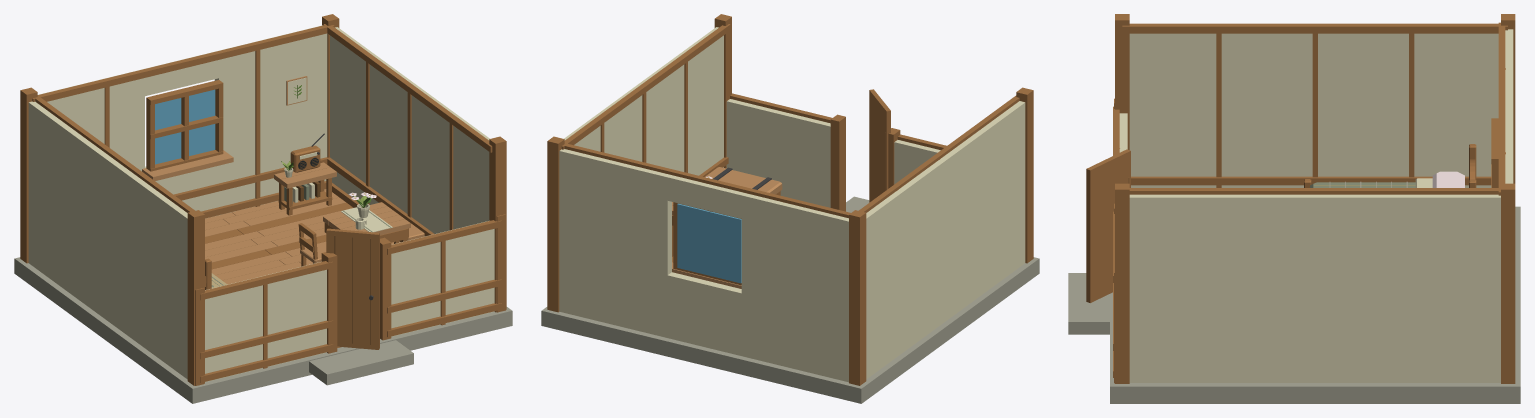
Rendered from HouseInterior_Lv1.fbx.
The picture shows the model from 3 angles, left to right: view 1: azimuth 30°, elevation 25°; view 2: azimuth 150°, elevation 25°; view 3: azimuth 270°, elevation 25°; orthographic projection. The views are drawn at different scales.
Visible parts, largest first — view 1: BackWall_FBX, LeftWall_FBX, RightWall_FBX, Floor_Planks_Staggered_FBX, FrontWall_FBX, FrontWall.001_FBX, Exterior_CornerPosts_FBX, FrontDoor_Hinged_FBX, Entrance_Step_CutawayPosts_FBX, Shelf_Radio.001_FBX, DiningTable_FBX, DiningChair_01_FBX (+3 smaller); view 2: BackWall_FBX, LeftWall_FBX, RightWall_FBX, FrontWall.001_FBX, Floor_Planks_Staggered_FBX, Exterior_CornerPosts_FBX, FrontDoor_Hinged_FBX, FrontWall_FBX, Chest_Banded.001_FBX; view 3: RightWall_FBX, LeftWall_FBX, Floor_Planks_Staggered_FBX, Exterior_CornerPosts_FBX, FrontDoor_Hinged_FBX, BackWall_FBX, Entrance_Step_CutawayPosts_FBX, Bed_Single_Sage.001_FBX, FrontWall_FBX.
Part boxes in pixels (x1=…): BackWall_FBX: x1=32, y1=25, x2=334, y2=218; LeftWall_FBX: x1=28, y1=95, x2=195, y2=379; RightWall_FBX: x1=323, y1=24, x2=492, y2=241; Floor_Planks_Staggered_FBX: x1=14, y1=189, x2=512, y2=403; FrontWall_FBX: x1=195, y1=252, x2=337, y2=385; FrontWall.001_FBX: x1=380, y1=214, x2=505, y2=340; Exterior_CornerPosts_FBX: x1=20, y1=14, x2=506, y2=385; FrontDoor_Hinged_FBX: x1=326, y1=228, x2=379, y2=349; Entrance_Step_CutawayPosts_FBX: x1=309, y1=340, x2=413, y2=385; Shelf_Radio.001_FBX: x1=274, y1=162, x2=336, y2=215; DiningTable_FBX: x1=323, y1=202, x2=410, y2=242; DiningChair_01_FBX: x1=298, y1=223, x2=326, y2=266; BackWall_FBX: x1=559, y1=143, x2=850, y2=382; LeftWall_FBX: x1=858, y1=95, x2=1025, y2=379; RightWall_FBX: x1=561, y1=24, x2=730, y2=176; FrontWall.001_FBX: x1=726, y1=93, x2=845, y2=211; Floor_Planks_Staggered_FBX: x1=541, y1=211, x2=1039, y2=403; Exterior_CornerPosts_FBX: x1=547, y1=14, x2=1033, y2=385; FrontDoor_Hinged_FBX: x1=869, y1=89, x2=890, y2=202; FrontWall_FBX: x1=885, y1=128, x2=946, y2=190; Chest_Banded.001_FBX: x1=705, y1=167, x2=782, y2=195; RightWall_FBX: x1=1129, y1=188, x2=1500, y2=382; LeftWall_FBX: x1=1122, y1=23, x2=1507, y2=187; Floor_Planks_Staggered_FBX: x1=1110, y1=206, x2=1520, y2=403; Exterior_CornerPosts_FBX: x1=1115, y1=14, x2=1515, y2=383; FrontDoor_Hinged_FBX: x1=1086, y1=149, x2=1130, y2=302; BackWall_FBX: x1=1491, y1=22, x2=1513, y2=195; Entrance_Step_CutawayPosts_FBX: x1=1068, y1=273, x2=1109, y2=334; Bed_Single_Sage.001_FBX: x1=1304, y1=144, x2=1476, y2=187; FrontWall_FBX: x1=1113, y1=98, x2=1129, y2=183.
Bounding box in the file's own units: 5.52 × 3.04 × 5.86.
